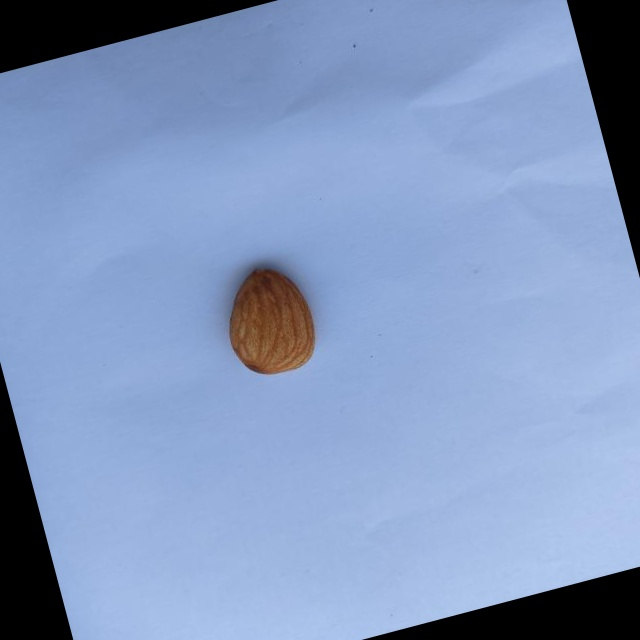grade1: (206, 248, 335, 392)
